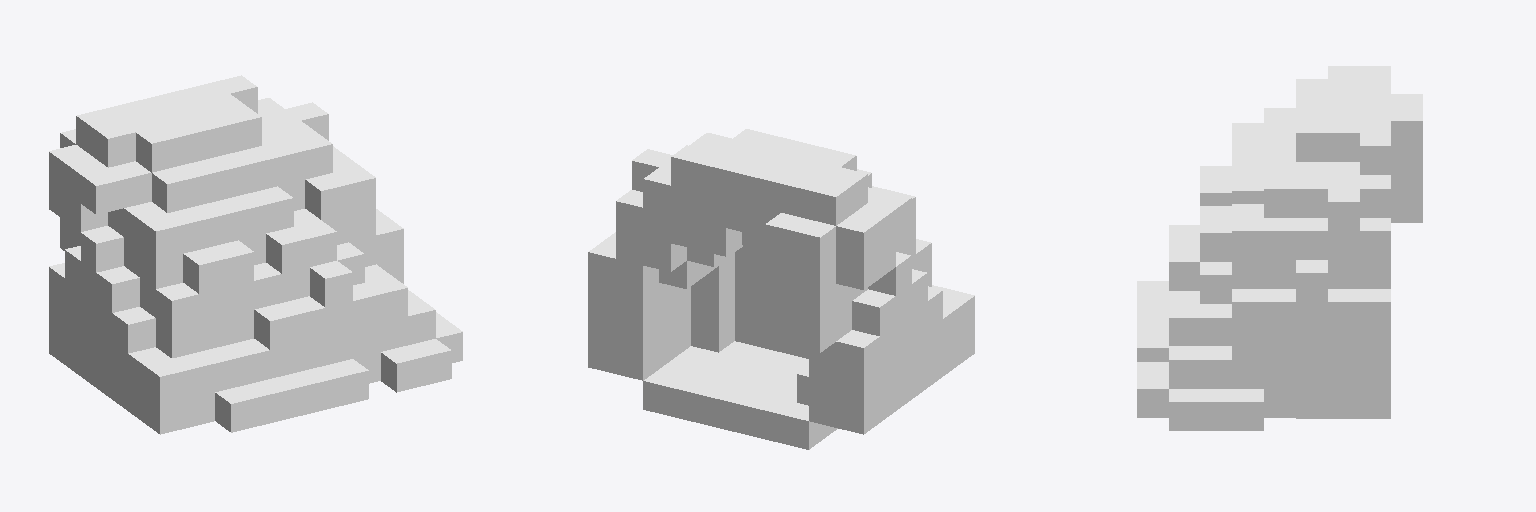
The model's file is Cave.vox.obj.
The picture shows the model from 3 angles: view 1: azimuth 30°, elevation 25°; view 2: azimuth 150°, elevation 25°; view 3: azimuth 270°, elevation 25°; orthographic projection.
Parts seen in each view (by area): view 1: object 1; view 2: object 1; view 3: object 1.
Part boxes in pixels (x1,y1,x2,y2): object 1: (49,75,462,434); object 1: (588,129,974,449); object 1: (1137,66,1422,430).
Size of the model in its own units: 1.1 by 0.9 by 0.9.